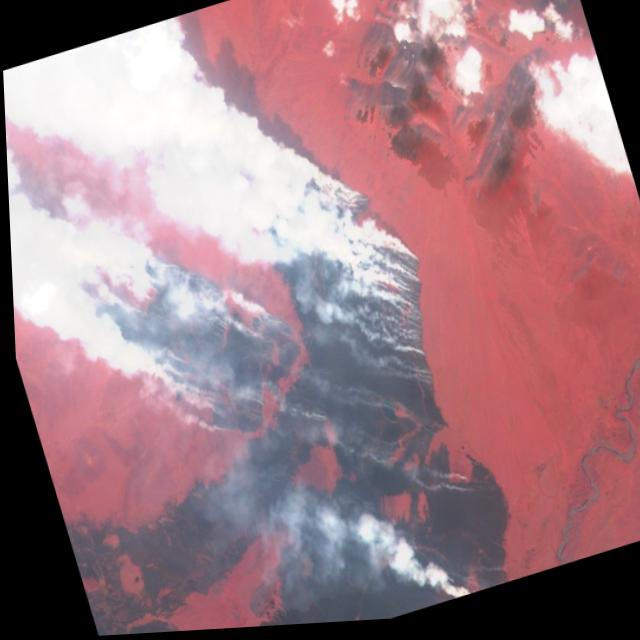fire: (42, 123, 462, 501)
